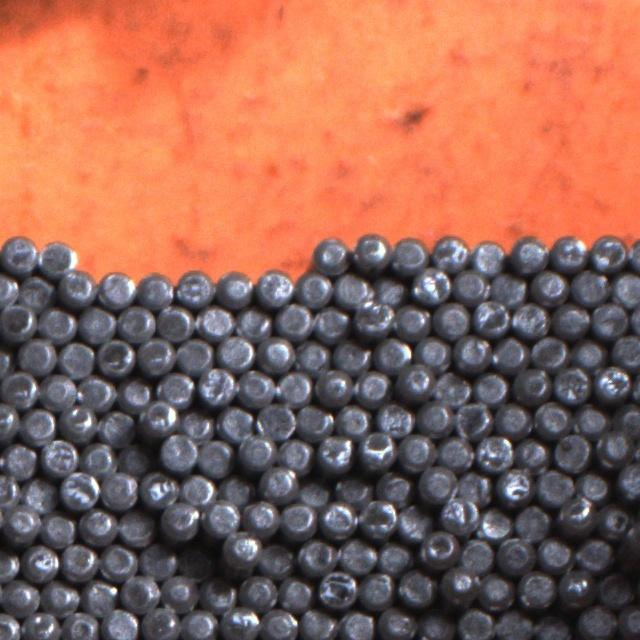tool: (418, 527, 458, 567), (0, 232, 39, 272), (138, 469, 178, 508), (430, 230, 469, 270), (158, 499, 198, 538), (220, 532, 259, 572), (357, 428, 395, 469), (315, 431, 354, 470), (255, 266, 294, 305), (513, 502, 552, 541), (57, 266, 96, 305), (155, 302, 194, 341), (553, 430, 591, 470), (98, 267, 136, 307), (556, 566, 594, 606), (118, 573, 158, 611), (58, 403, 98, 441), (556, 494, 596, 532), (136, 268, 174, 308), (438, 564, 478, 602), (176, 267, 214, 306), (397, 431, 435, 470), (354, 297, 393, 335), (78, 304, 116, 343), (575, 534, 614, 572), (530, 332, 569, 370), (117, 508, 156, 546), (318, 570, 357, 608), (296, 535, 334, 574), (495, 534, 534, 572), (472, 298, 511, 336), (1, 578, 40, 616), (590, 300, 629, 338), (60, 471, 99, 509), (17, 335, 56, 373), (596, 570, 635, 608), (116, 302, 154, 341), (454, 399, 492, 438), (21, 542, 59, 581), (412, 266, 451, 304), (96, 336, 134, 375), (137, 398, 176, 436), (136, 335, 174, 374), (549, 232, 588, 270), (535, 467, 573, 506), (158, 431, 196, 470), (200, 574, 238, 613), (553, 363, 591, 402), (3, 504, 40, 544), (216, 266, 253, 306), (570, 267, 608, 305), (79, 506, 117, 544), (0, 369, 38, 407), (536, 534, 574, 572), (77, 373, 115, 411), (296, 268, 334, 306), (241, 496, 279, 534), (472, 368, 510, 406), (197, 366, 235, 404), (397, 567, 435, 605), (279, 500, 317, 538), (239, 572, 277, 610), (532, 399, 570, 437), (452, 332, 490, 370), (216, 404, 254, 442), (39, 372, 77, 410), (374, 334, 412, 372), (432, 368, 470, 406), (477, 572, 515, 610), (594, 428, 632, 466), (396, 502, 434, 540), (516, 569, 554, 607), (176, 334, 214, 372), (216, 332, 254, 370), (415, 398, 453, 436), (496, 466, 534, 504), (593, 364, 631, 402), (138, 542, 176, 580), (41, 437, 79, 475), (509, 234, 547, 272), (196, 436, 234, 474), (201, 498, 239, 536), (570, 334, 608, 372), (589, 232, 627, 270), (490, 334, 528, 372), (418, 465, 456, 503), (511, 364, 549, 402), (57, 339, 95, 377), (596, 502, 634, 540), (161, 572, 199, 610), (41, 578, 79, 616), (258, 462, 296, 500), (36, 304, 74, 342), (388, 233, 426, 271), (312, 234, 350, 272), (176, 541, 214, 579), (313, 367, 352, 404), (257, 400, 294, 439), (437, 494, 476, 531), (140, 604, 180, 640), (278, 573, 315, 611), (178, 471, 216, 508), (551, 300, 589, 337), (354, 367, 391, 405), (530, 267, 568, 304), (436, 432, 474, 469), (19, 407, 57, 444), (100, 470, 137, 508), (97, 406, 134, 444), (319, 500, 357, 537), (433, 300, 470, 338), (511, 299, 548, 337), (334, 272, 371, 310), (276, 300, 314, 337), (476, 433, 513, 471), (375, 400, 413, 437), (196, 302, 233, 340), (333, 401, 371, 438), (294, 402, 332, 439), (375, 468, 413, 505), (578, 603, 616, 640), (457, 535, 494, 573), (156, 369, 193, 407), (452, 266, 490, 303), (332, 337, 370, 374), (276, 433, 314, 470), (476, 504, 513, 542), (312, 303, 349, 341), (494, 399, 531, 437), (338, 536, 376, 573), (376, 537, 414, 574), (80, 577, 118, 614), (237, 369, 274, 407), (351, 230, 388, 268), (454, 468, 491, 506), (572, 401, 610, 438), (98, 542, 136, 579), (359, 499, 396, 537), (16, 273, 54, 310), (21, 474, 58, 512), (574, 466, 612, 503), (61, 542, 98, 580), (236, 432, 274, 469), (116, 375, 154, 412), (334, 472, 372, 509), (38, 239, 76, 276), (0, 300, 36, 339), (378, 604, 417, 640), (220, 605, 260, 640), (275, 369, 312, 406), (2, 441, 39, 478), (393, 302, 430, 339), (397, 361, 434, 398), (489, 270, 526, 307), (257, 540, 294, 577), (235, 305, 272, 342), (358, 570, 394, 608), (40, 508, 76, 546), (177, 407, 216, 442), (257, 335, 293, 372), (514, 434, 550, 471), (414, 332, 450, 369), (80, 439, 117, 475), (217, 472, 254, 508), (116, 438, 153, 474), (370, 274, 407, 310), (180, 605, 218, 640), (260, 605, 298, 640), (294, 338, 330, 374), (470, 237, 506, 273), (295, 477, 332, 512), (298, 606, 336, 640), (100, 607, 138, 640), (458, 606, 494, 640), (496, 608, 534, 640), (418, 608, 456, 640), (21, 609, 60, 640), (338, 607, 374, 640), (609, 268, 640, 306), (62, 609, 99, 640), (611, 331, 640, 369), (534, 611, 572, 640), (613, 400, 640, 438), (615, 460, 640, 498), (616, 602, 640, 640), (0, 470, 21, 508), (621, 522, 640, 562), (0, 546, 18, 584), (0, 402, 17, 441), (0, 269, 16, 308), (0, 341, 15, 378)
